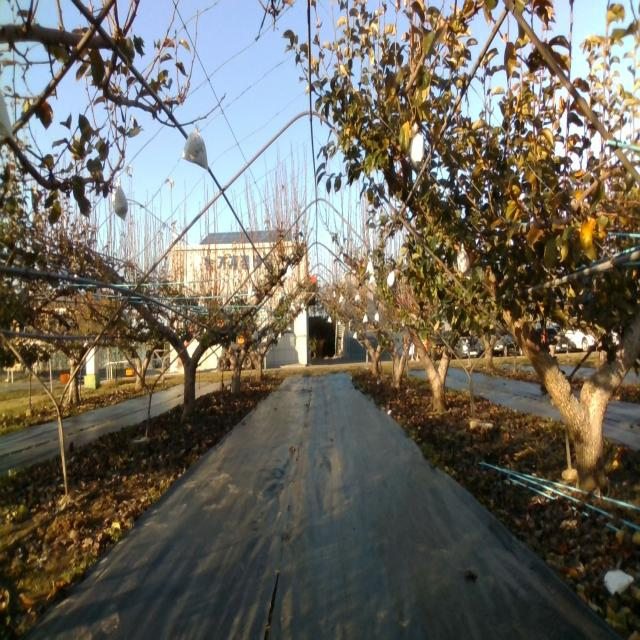pearbags: (180, 128, 208, 172), (112, 178, 128, 218), (409, 132, 425, 169), (457, 247, 471, 279)
